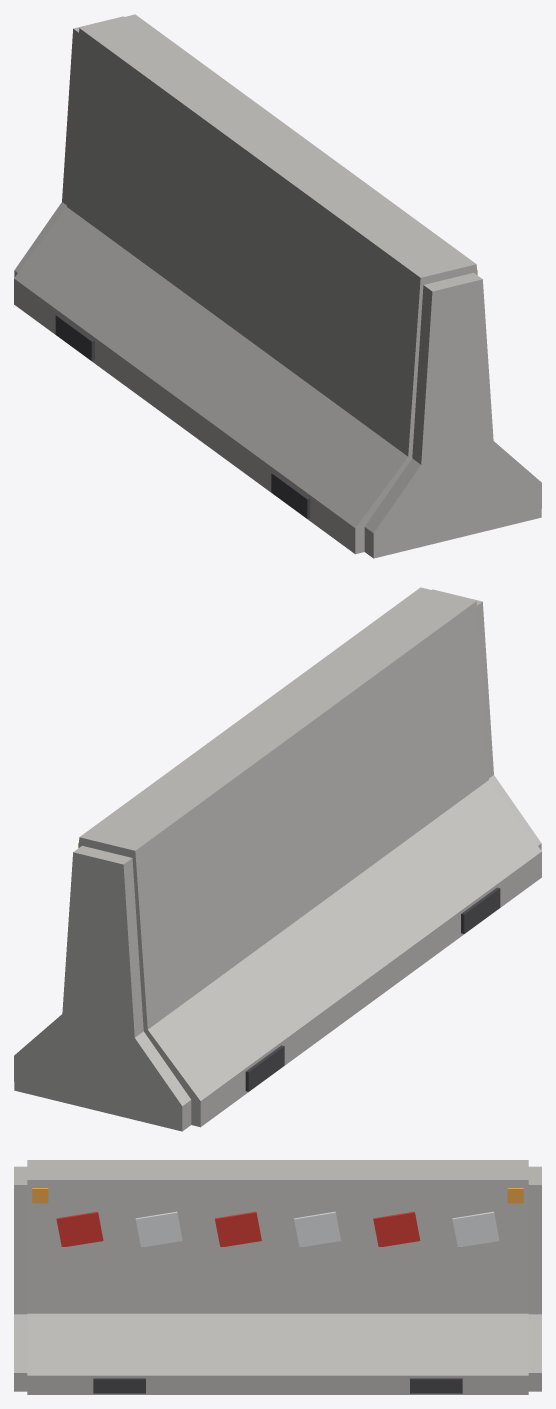
File: SM_Prop_Barrier.fbx
3 renders of one model, top to bottom at view 1: azimuth 30°, elevation 25°; view 2: azimuth 150°, elevation 25°; view 3: azimuth 270°, elevation 25°, orthographic. The views are drawn at different scales.
Visible parts, largest first — view 1: SM_Prop_Barrier; view 2: SM_Prop_Barrier; view 3: SM_Prop_Barrier.
Part boxes in pixels (x1,y1,x2,y2): SM_Prop_Barrier: (14,14,541,558); SM_Prop_Barrier: (14,587,541,1131); SM_Prop_Barrier: (14,1160,541,1394).
Size of the model in its own units: 2 by 0.62 by 0.8.
